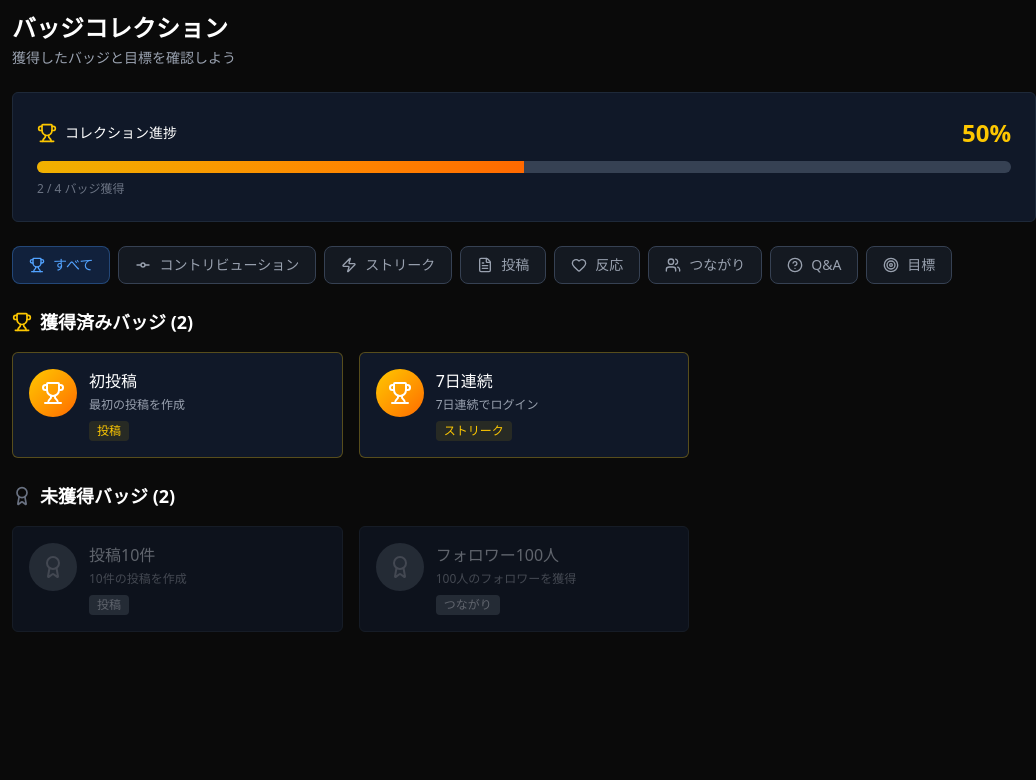
Test case: BadgeCollectionPage › カテゴリフィルターが機能する
Check: the heading "初投稿" is shown, box [89,370,137,392]
Check: the button "すべて" is shown, box [12,246,110,284]
# ストリークタブで絞り込むと streak カテゴリのバッジだけが表示される
What coordinates should you click on to do the following:
click the button "ストリーク"
I would click on:
 (388, 265)
Its box is [324,246,452,284].
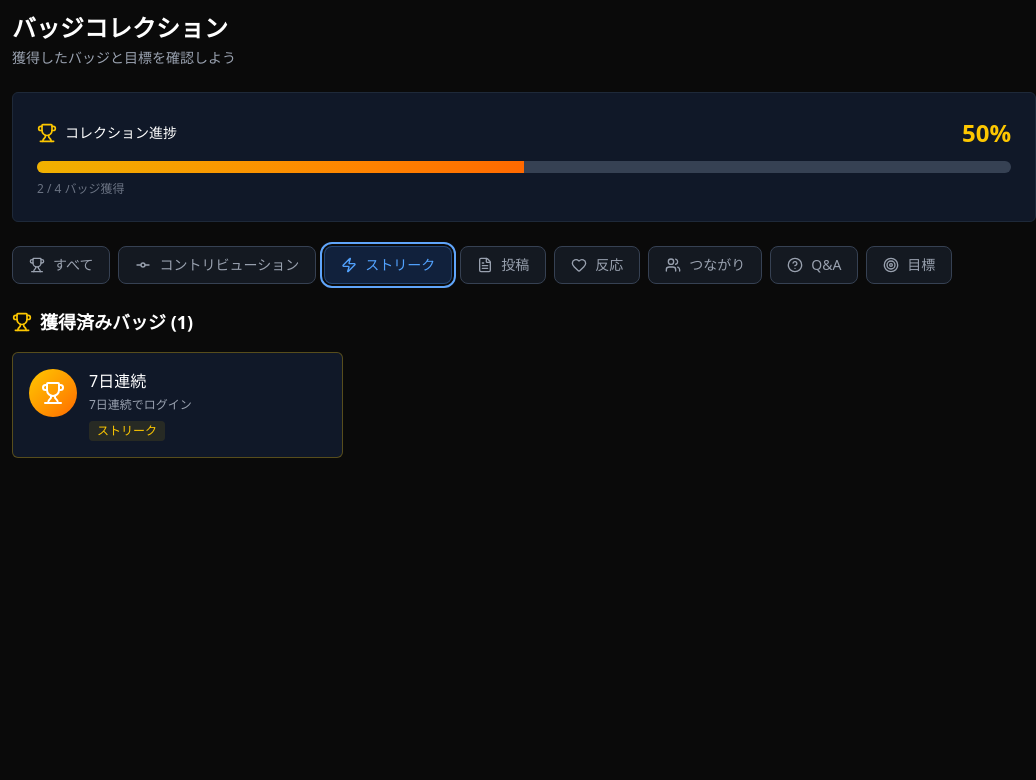
Check: the heading "初投稿" is gone
Check: the heading "投稿10件" is gone
Check: the heading "フォロワー100人" is gone
# 投稿タブは post カテゴリの 2 件（旧タブ構成では到達できなかった）
What coordinates should you click on to do the following:
click the button "投稿"
I would click on:
 (503, 265)
Its box is [460,246,546,284].
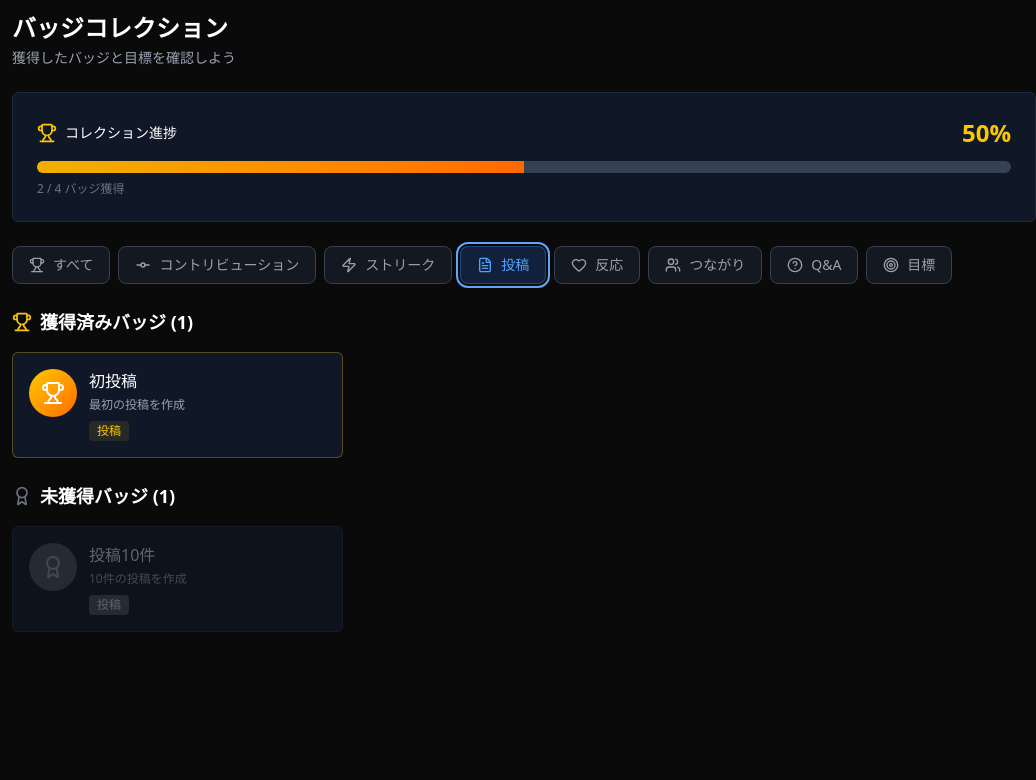
Check: the heading "初投稿" is shown, box [89,370,137,392]
Check: the heading "投稿10件" is shown, box [89,544,155,566]
Check: the heading "7日連続" is gone
# つながりタブは social カテゴリの 1 件
What coordinates should you click on to do the following:
click the button "つながり"
I would click on:
 (705, 265)
Its box is [648,246,762,284].
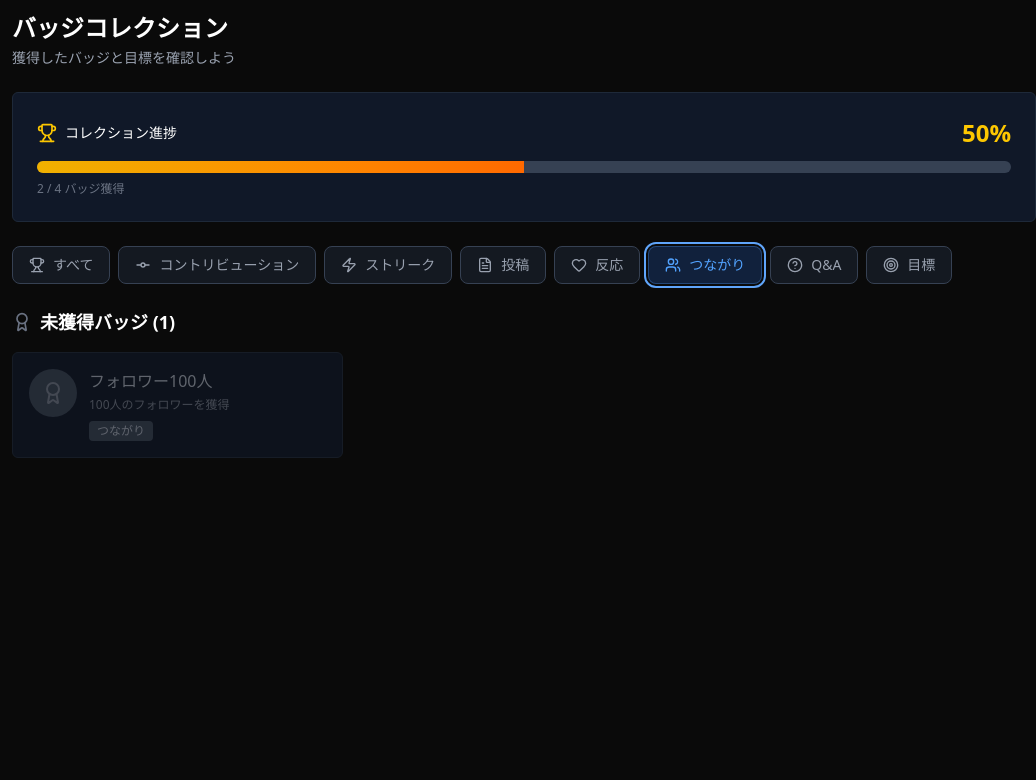
Check: the heading "フォロワー100人" is shown, box [89,370,212,392]
Check: the heading "初投稿" is gone
# すべて に戻すと全バッジが再表示される
What coordinates should you click on to do the following:
click the button "すべて"
I would click on:
 (61, 265)
Its box is [12,246,110,284].
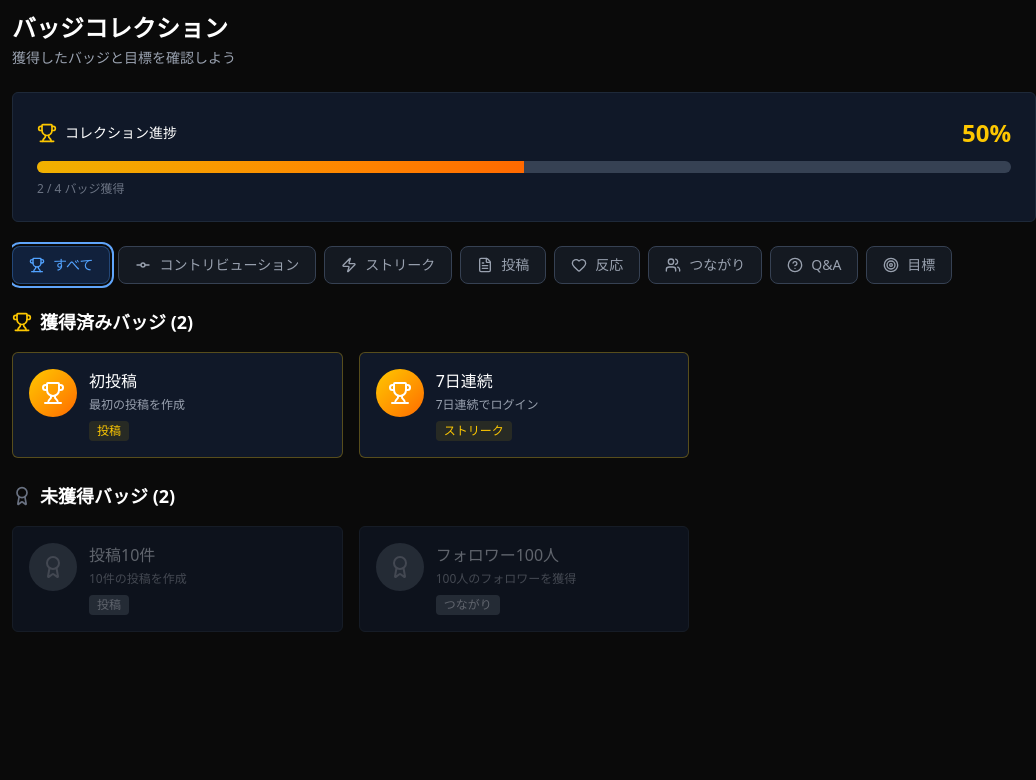
Check: the heading "フォロワー100人" is shown, box [436,544,559,566]
Check: the heading "初投稿" is shown, box [89,370,137,392]
